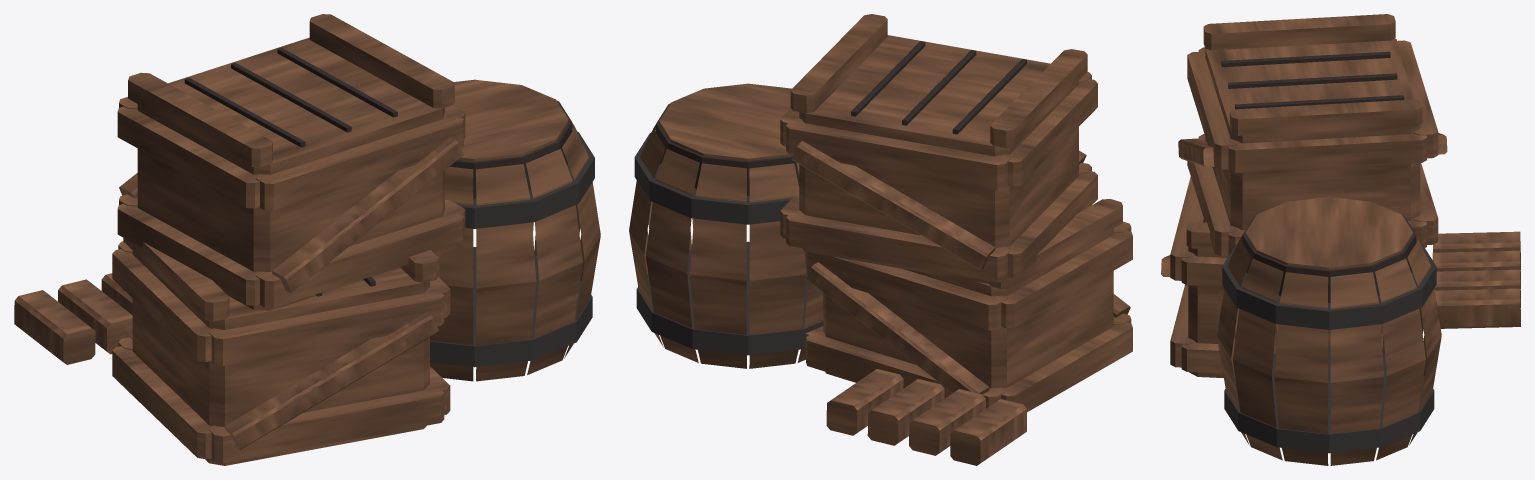
File: camp_supplies.glb
3 renders of one model, left to right at view 1: azimuth 30°, elevation 25°; view 2: azimuth 150°, elevation 25°; view 3: azimuth 270°, elevation 25°, orthographic. The views are drawn at different scales.
Visible parts, largest first — view 1: Camp Supplies; view 2: Camp Supplies; view 3: Camp Supplies.
Boxes of the visible parts, box(x1,y1,x2,y2) form: Camp Supplies: box(14, 14, 600, 465); Camp Supplies: box(629, 14, 1132, 465); Camp Supplies: box(1161, 14, 1520, 465).
Size of the model in its own units: 2.02 by 1.3 by 1.52.
3 materials, 1 textured.
